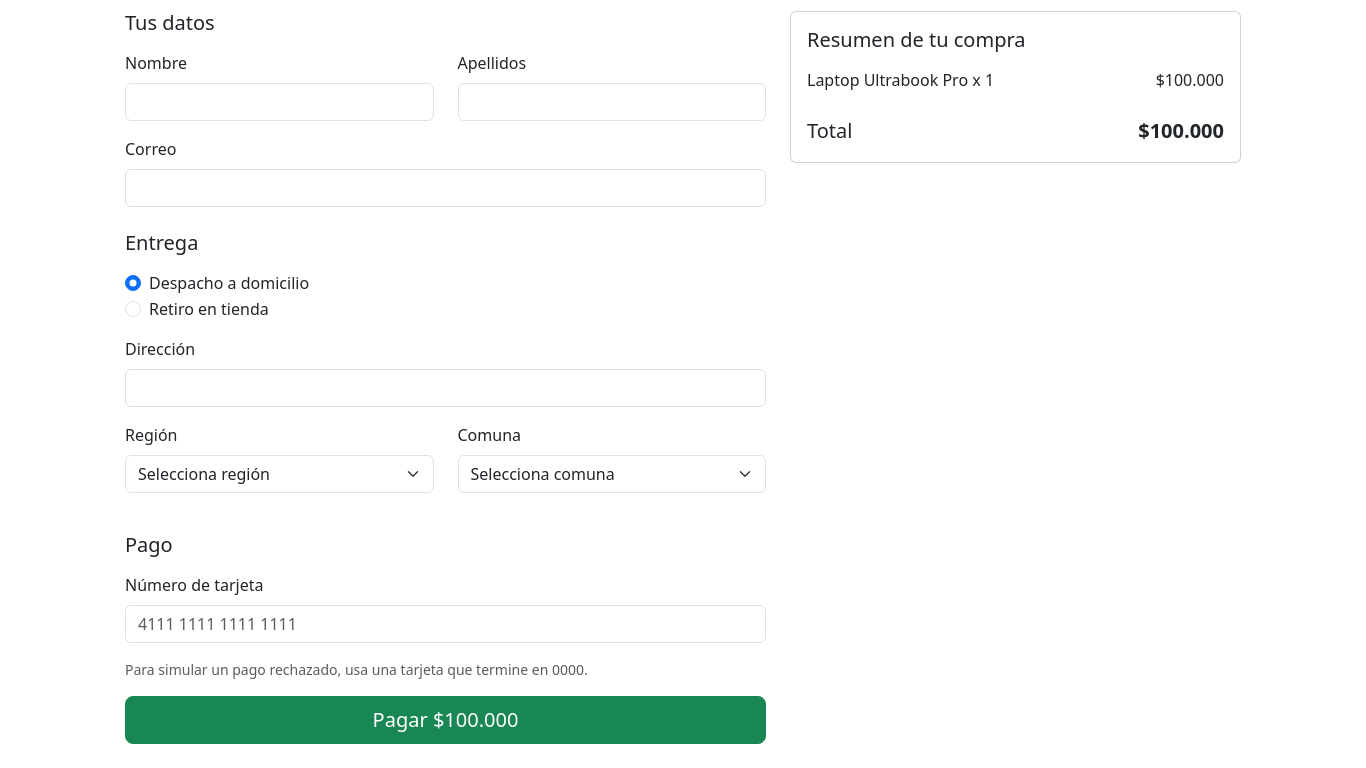
Checkout › muestra errores de validación al enviar el formulario vacío
(page scrolled)
Step 1. Click the button "Pagar $100.000" → {"x": 446, "y": 720}, box [125, 696, 766, 744]
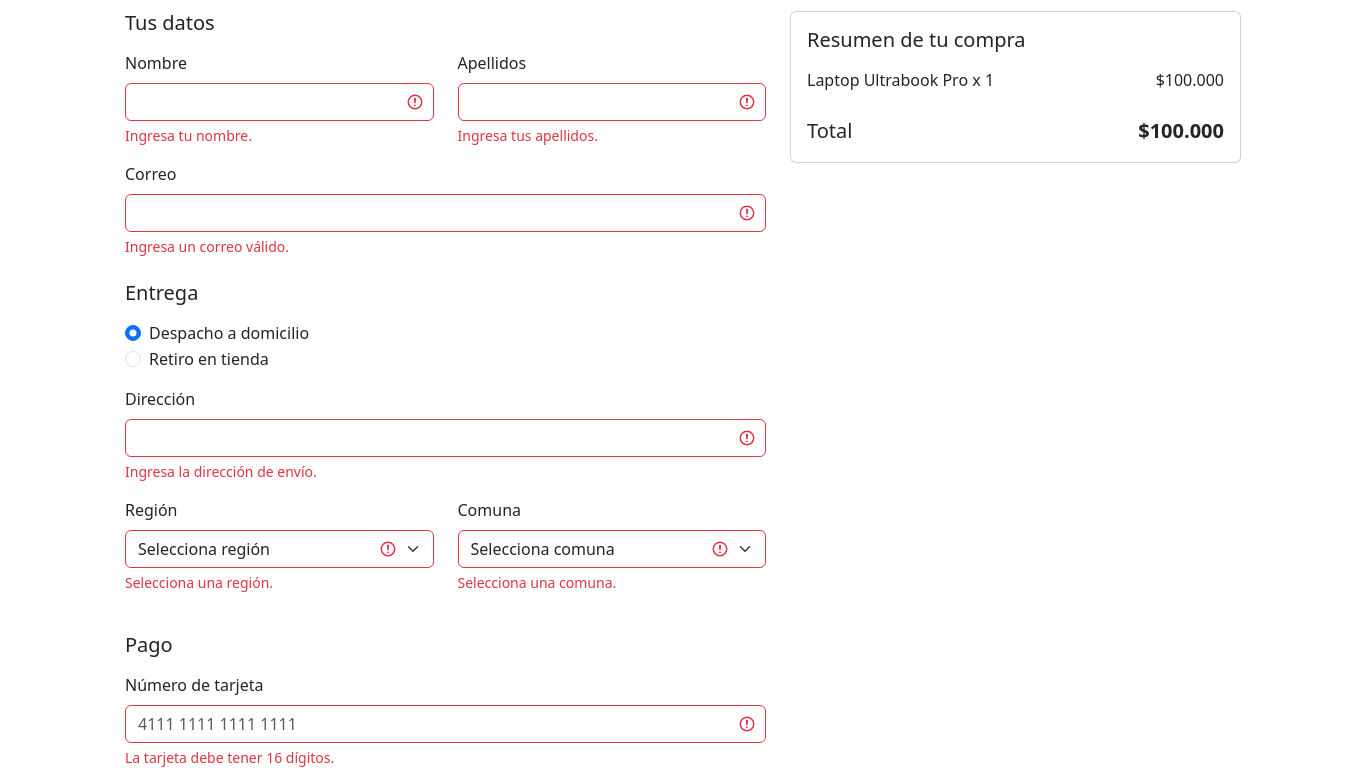
Check: the text "Ingresa tu nombre." is shown, box [125, 126, 252, 145]
Check: the text "La tarjeta debe tener 16 dígitos." is shown, box [125, 748, 334, 767]
